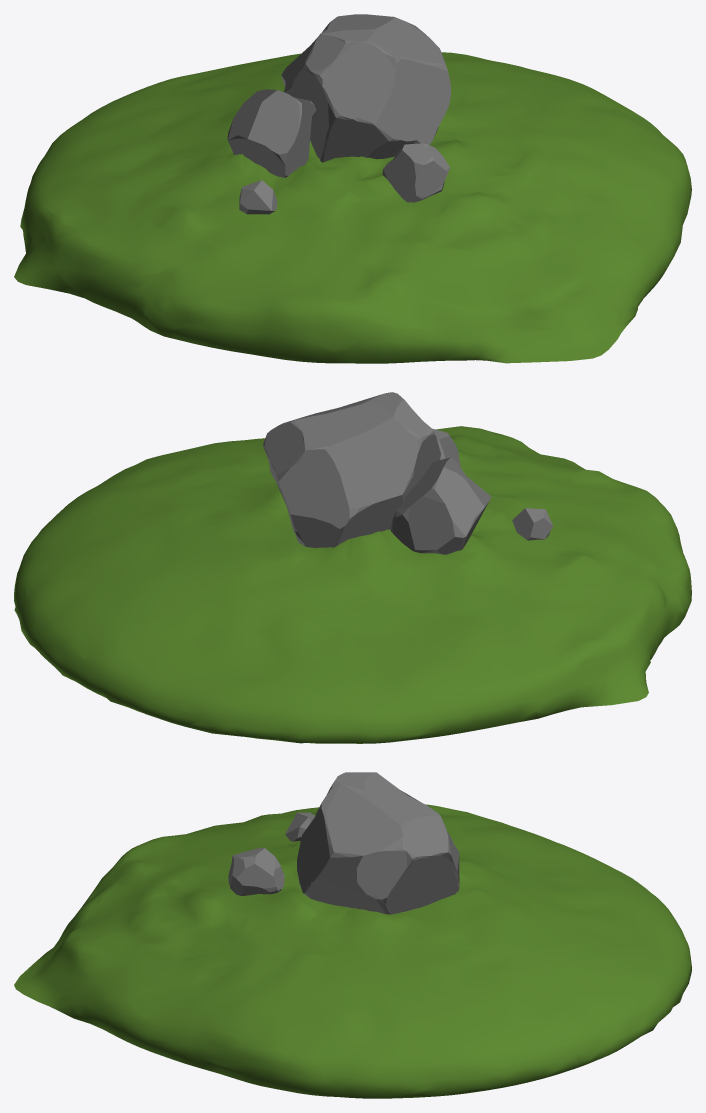
The model's file is Stone v2.fbx.
3 views of the same model, one above another, from view 1: azimuth 30°, elevation 25°; view 2: azimuth 150°, elevation 25°; view 3: azimuth 270°, elevation 25° (orthographic). The views are drawn at different scales.
Visible parts, largest first — view 1: Сфера, Cube, Куб, Куб.001, Куб.002; view 2: Сфера, Cube, Куб, Куб.002; view 3: Сфера, Cube, Куб.001, Куб.002.
Part boxes in pixels (x1,y1,x2,y2): Сфера: (14, 52, 691, 363); Cube: (281, 14, 450, 162); Куб: (227, 89, 316, 177); Куб.001: (382, 143, 449, 202); Куб.002: (239, 180, 277, 214); Сфера: (14, 426, 691, 743); Cube: (263, 392, 440, 547); Куб: (390, 457, 491, 554); Куб.002: (512, 508, 553, 540); Сфера: (14, 804, 691, 1098); Cube: (297, 772, 459, 914); Куб.001: (228, 847, 284, 895); Куб.002: (285, 812, 314, 841).
Size of the model in its own units: 1589 by 498 by 1667.
